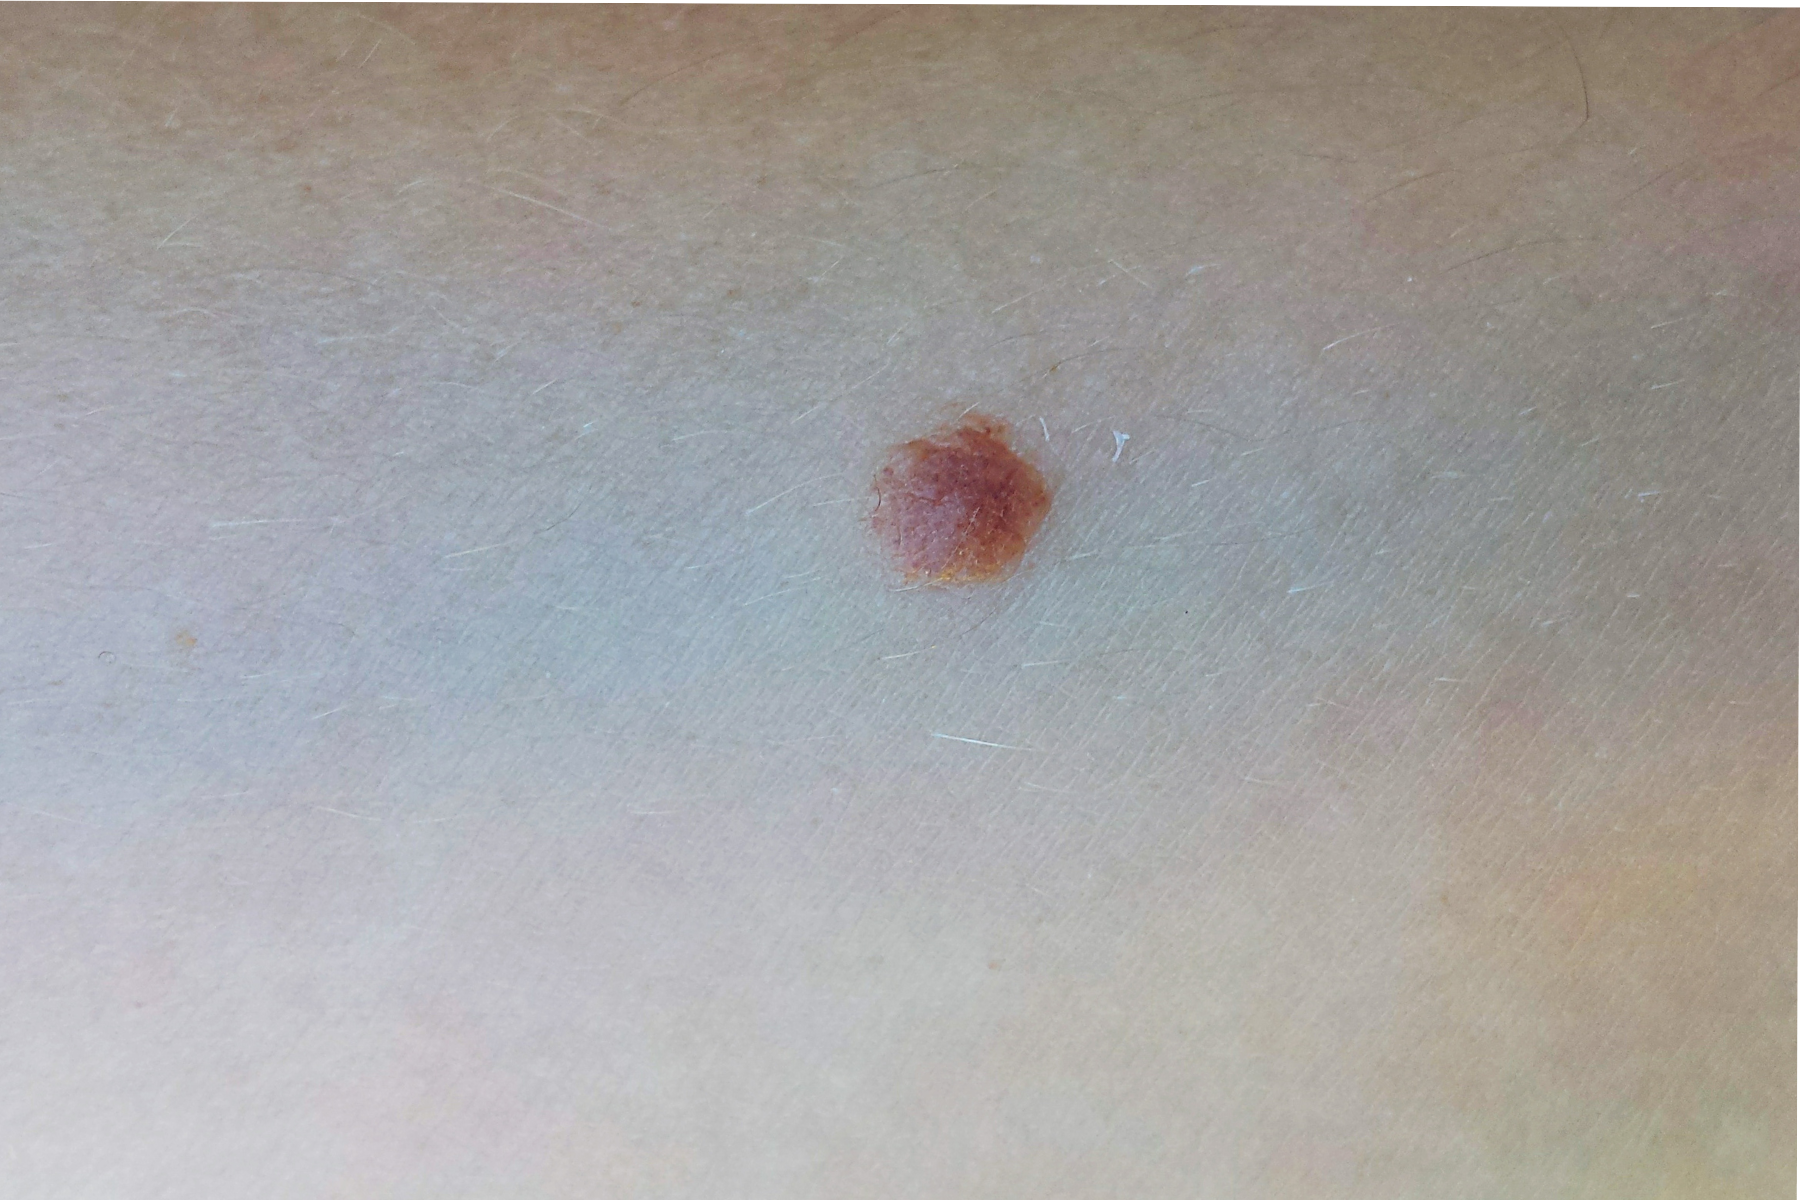Normal: (868, 429, 1055, 587)
